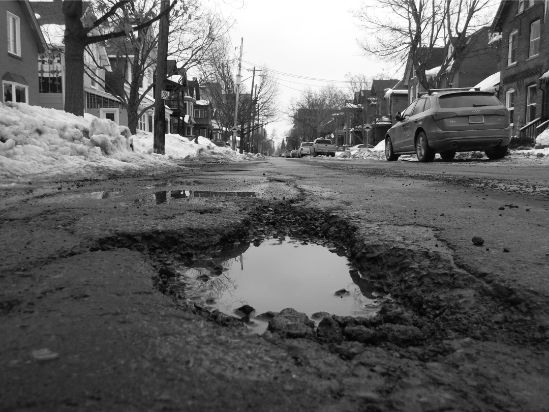pothole: (125, 198, 480, 360)
